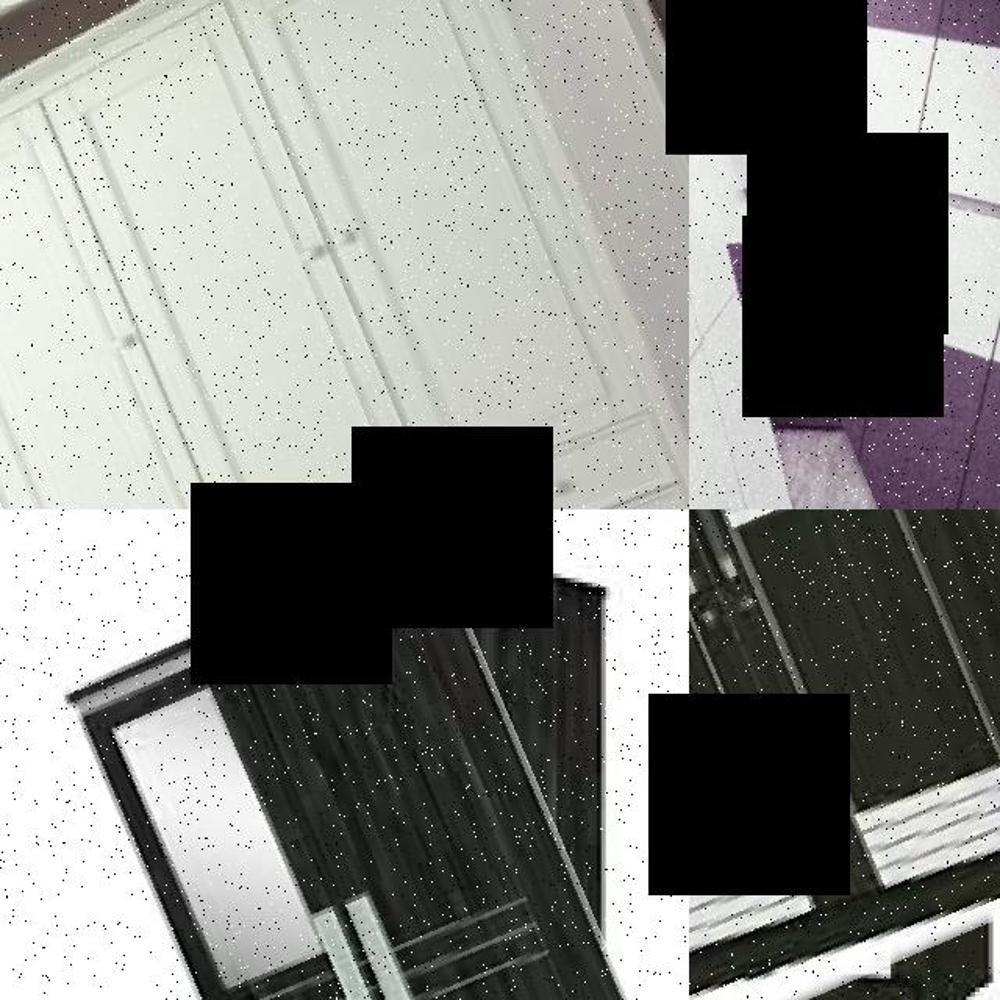cabinet: (0, 0, 689, 509), (125, 545, 681, 1000), (689, 509, 1000, 1000), (689, 88, 989, 509)
